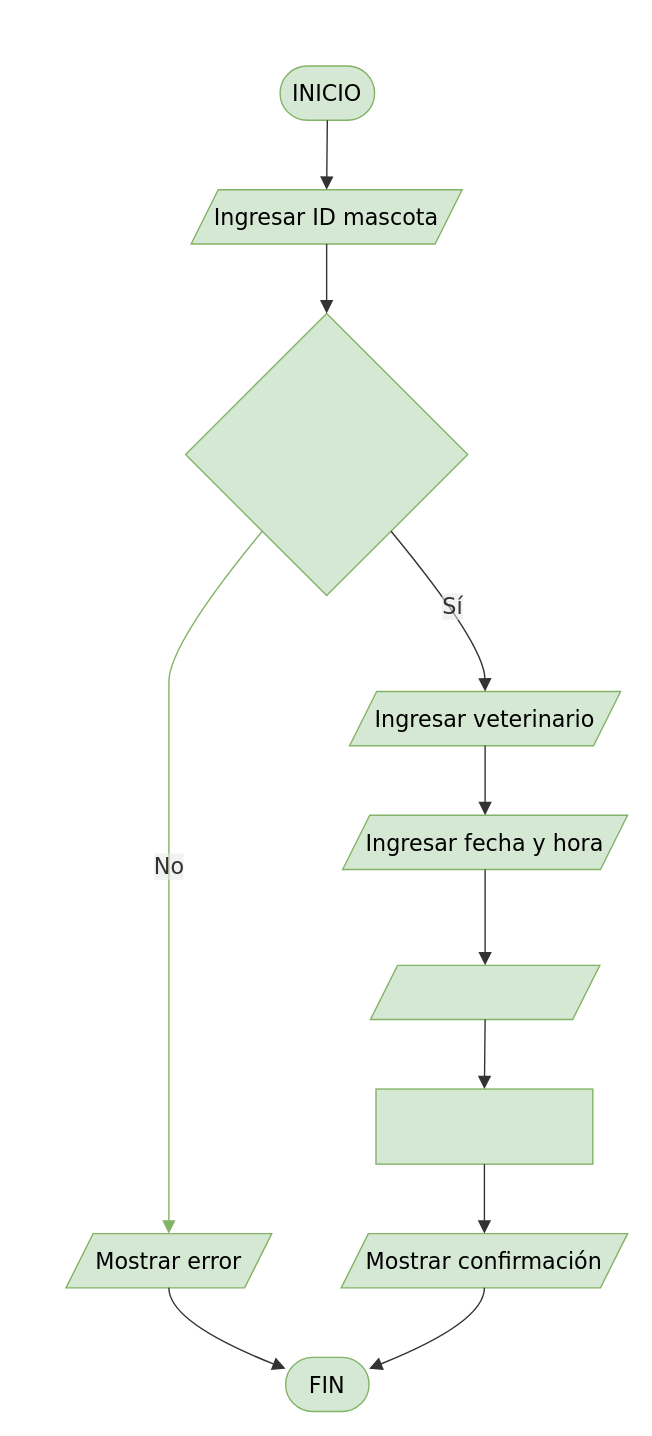
This 652x1436 diagram has some shape labels left out. The box of each missing label's shape, as (x1, y1, x2, y2) in pixels:
Ingresar motivo: (369, 964, 600, 1020)
Registrar cita: (375, 1088, 593, 1164)
¿Mascota existe?: (184, 312, 468, 596)
